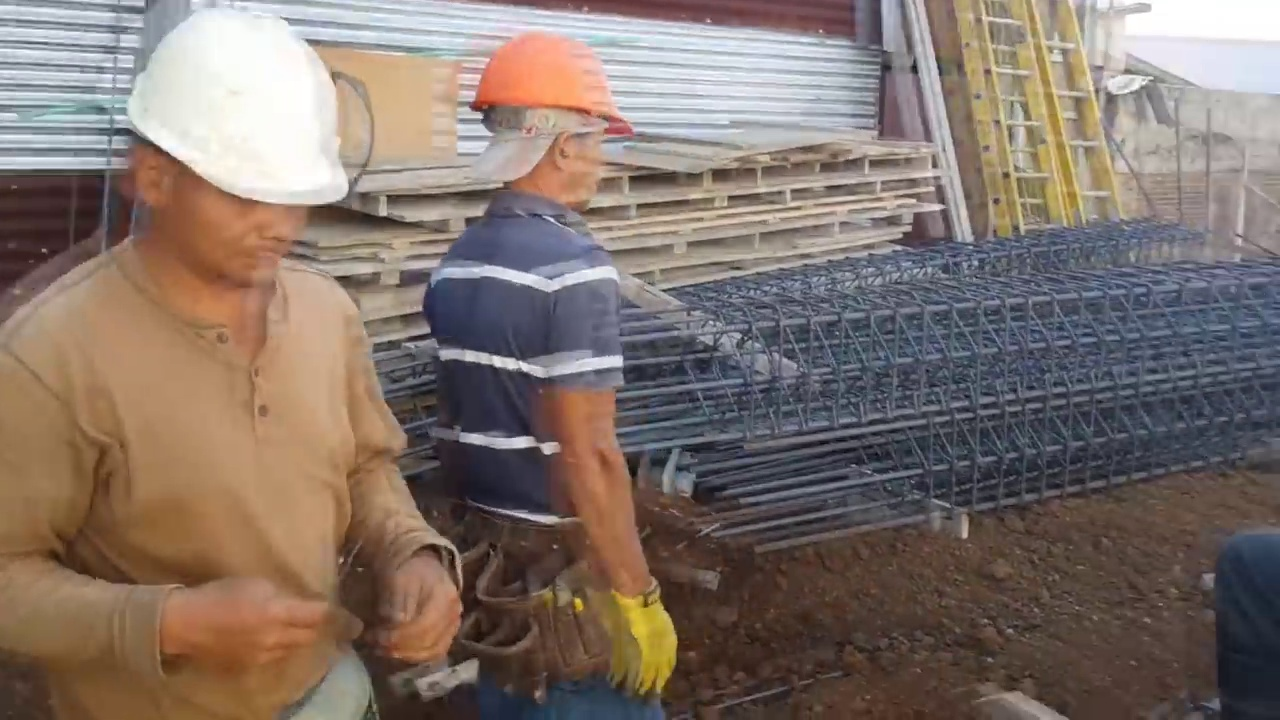helmet: (129, 17, 339, 205), (471, 30, 644, 138)
helmet-on: (112, 17, 349, 340), (455, 21, 633, 213)
person: (0, 3, 464, 719), (423, 0, 693, 713)
